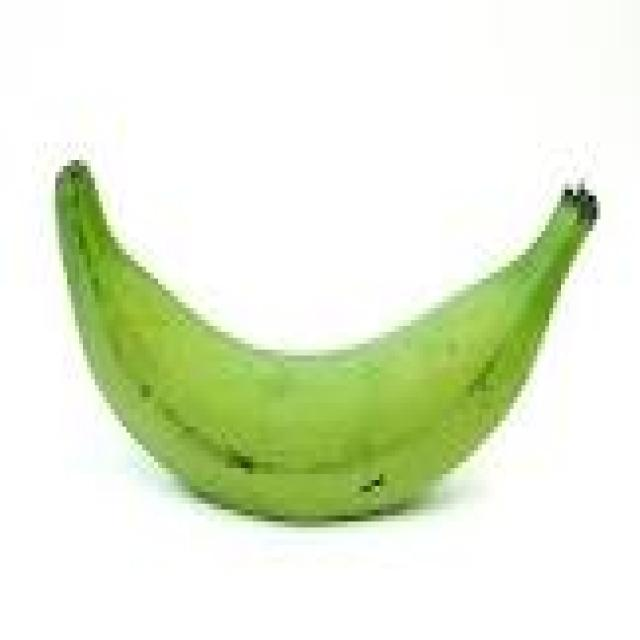banana: (56, 160, 596, 521)
